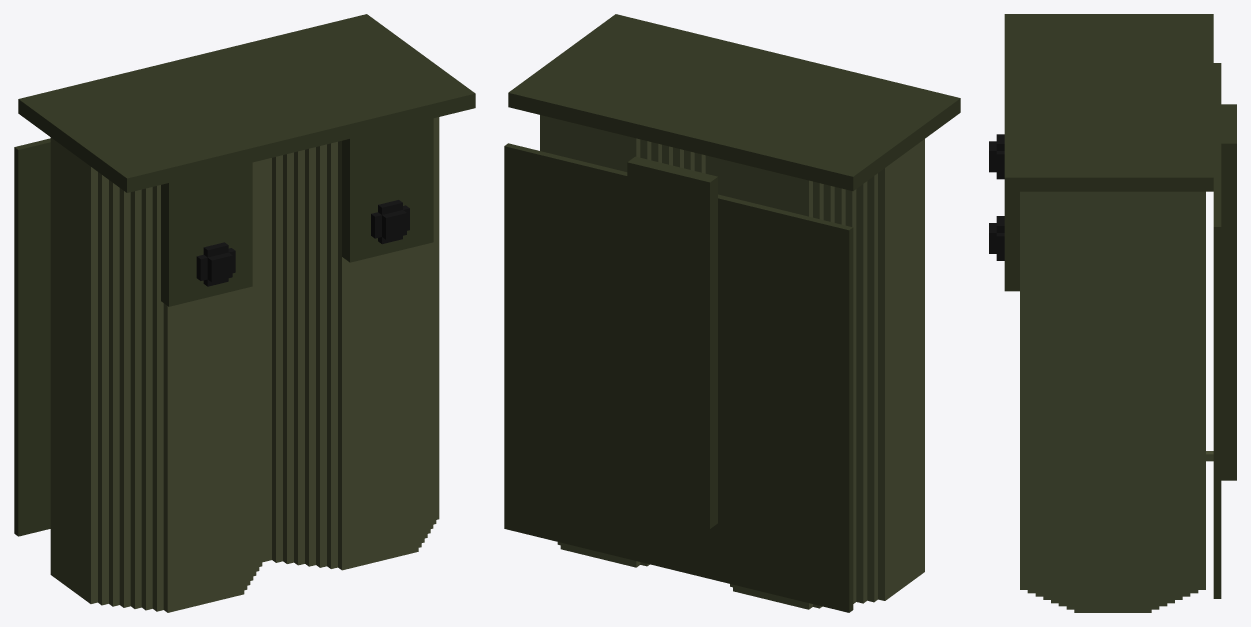
The model's file is grenade_pouch.glb.
The picture shows the model from 3 angles, left to right: view 1: azimuth 30°, elevation 25°; view 2: azimuth 150°, elevation 25°; view 3: azimuth 270°, elevation 25°; orthographic projection. The views are drawn at different scales.
Visible parts, largest first — view 1: grenade_pouch:compound; view 2: grenade_pouch:compound; view 3: grenade_pouch:compound.
Part boxes in pixels (box(x1,y1,x2,y2)): grenade_pouch:compound: box(14, 14, 475, 612); grenade_pouch:compound: box(504, 14, 960, 612); grenade_pouch:compound: box(989, 14, 1236, 612).
Bounding box in the file's own units: 0.1 × 0.124 × 0.064.
